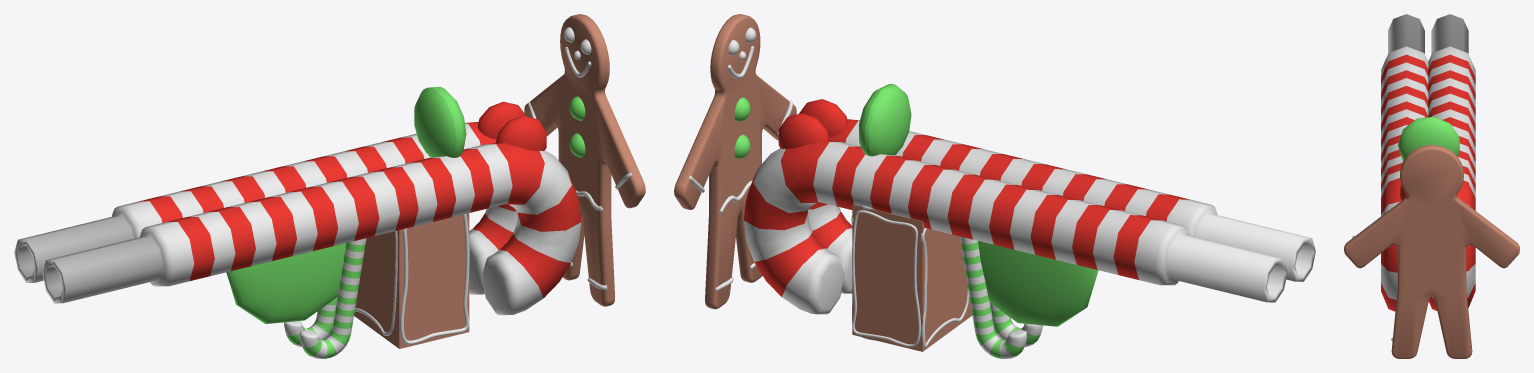
Rendered from MachineGun_Animated.glb.
The picture shows the model from 3 angles, left to right: view 1: azimuth 30°, elevation 25°; view 2: azimuth 150°, elevation 25°; view 3: azimuth 270°, elevation 25°; orthographic projection. The views are drawn at different scales.
Parts seen in each view (by area): view 1: Cube.010, Sphere.213, BézierCurve.002; view 2: Cube.010, Sphere.213, BézierCurve.002; view 3: Sphere.213, Cube.010.
Part boxes in pixels (x1,y1,x2,y2): Cube.010: [14, 86, 581, 358]; Sphere.213: [524, 14, 645, 306]; BézierCurve.002: [354, 214, 469, 344]; Cube.010: [743, 84, 1315, 358]; Sphere.213: [674, 14, 796, 309]; BézierCurve.002: [851, 205, 969, 348]; Sphere.213: [1344, 145, 1519, 358]; Cube.010: [1381, 14, 1475, 311].
Bounding box in the file's own units: 2.66 × 1.25 × 0.944.
